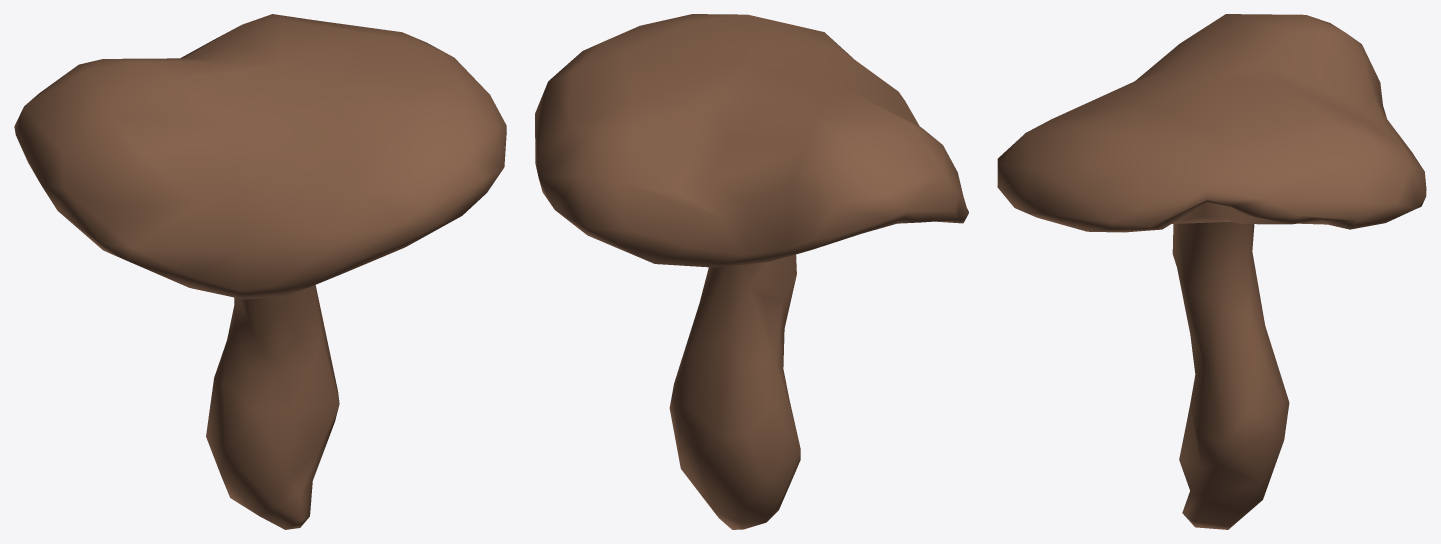
File: Scatter_Mushroom_02_SM.fbx
3 renders of one model, left to right at view 1: azimuth 30°, elevation 25°; view 2: azimuth 150°, elevation 25°; view 3: azimuth 270°, elevation 25°, orthographic. The views are drawn at different scales.
Visible parts, largest first — view 1: Scatter_Mushroom_02_SM; view 2: Scatter_Mushroom_02_SM; view 3: Scatter_Mushroom_02_SM.
Boxes of the visible parts, x1,y1,x2,y2 form: Scatter_Mushroom_02_SM: [14, 14, 506, 529]; Scatter_Mushroom_02_SM: [535, 14, 968, 529]; Scatter_Mushroom_02_SM: [997, 14, 1426, 529].
Size of the model in its own units: 3691 by 4028 by 3502.
